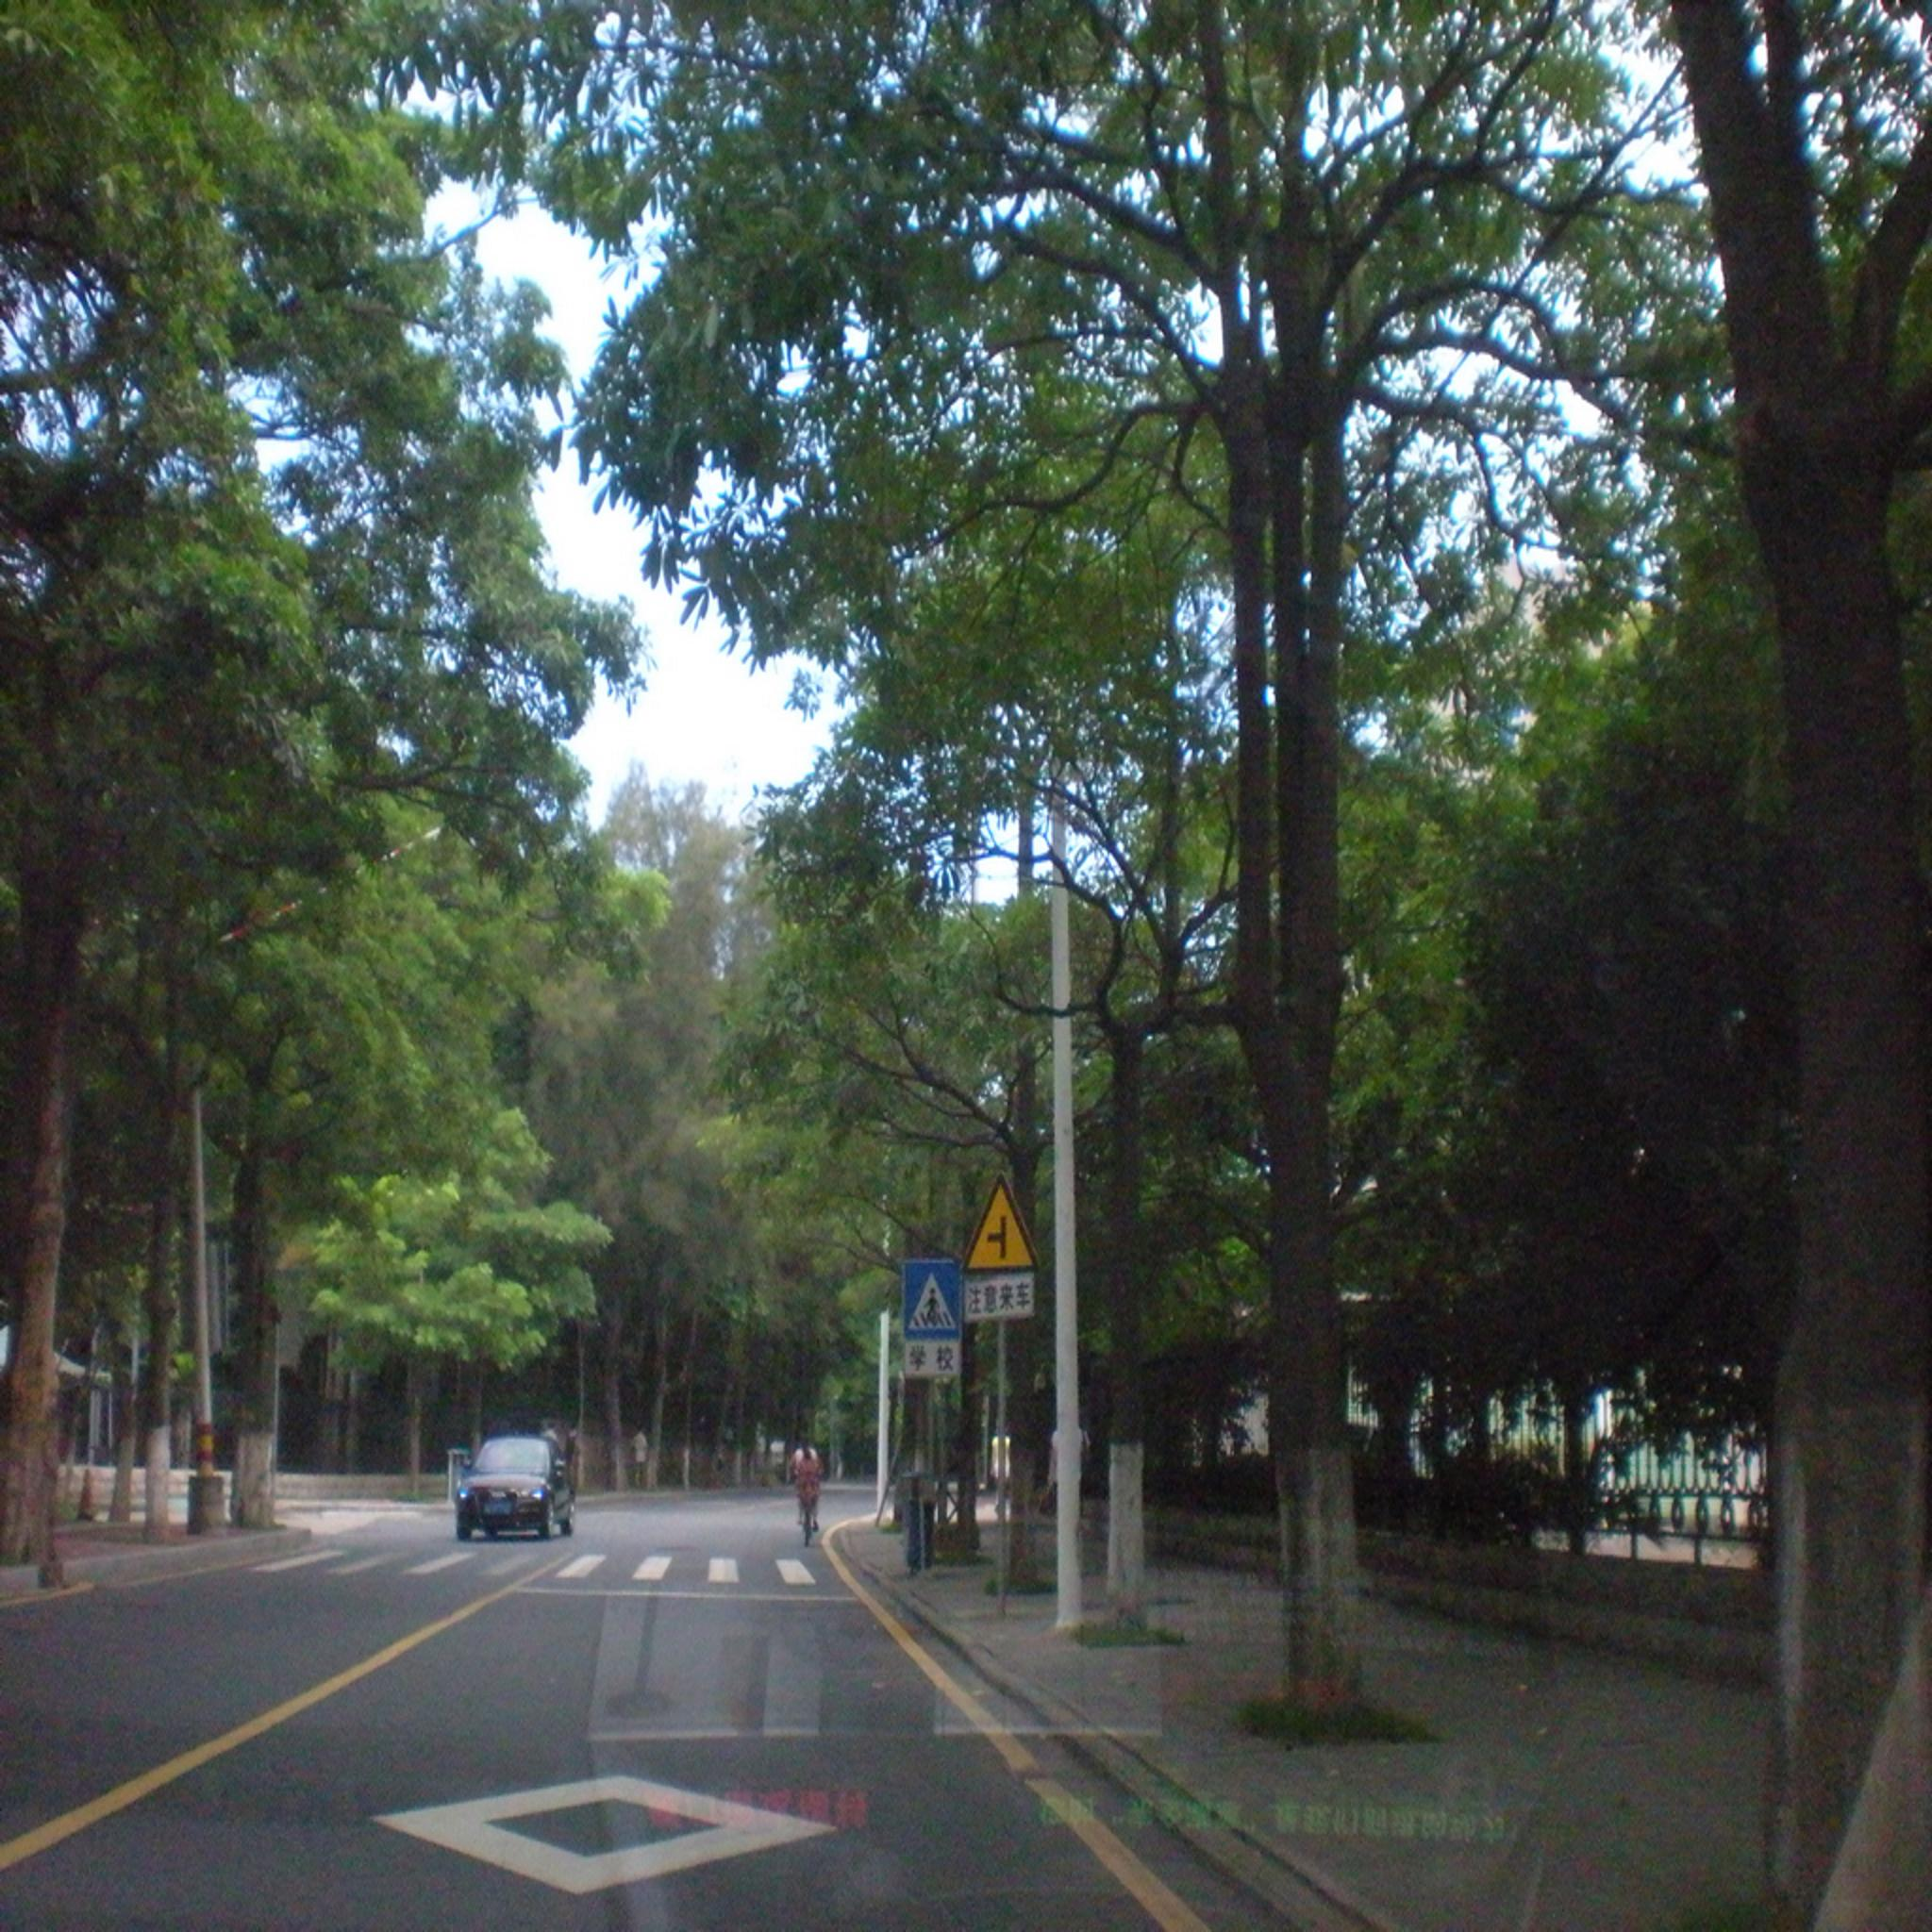ip: (895, 1258, 964, 1338)
w12: (964, 1171, 1040, 1270)
